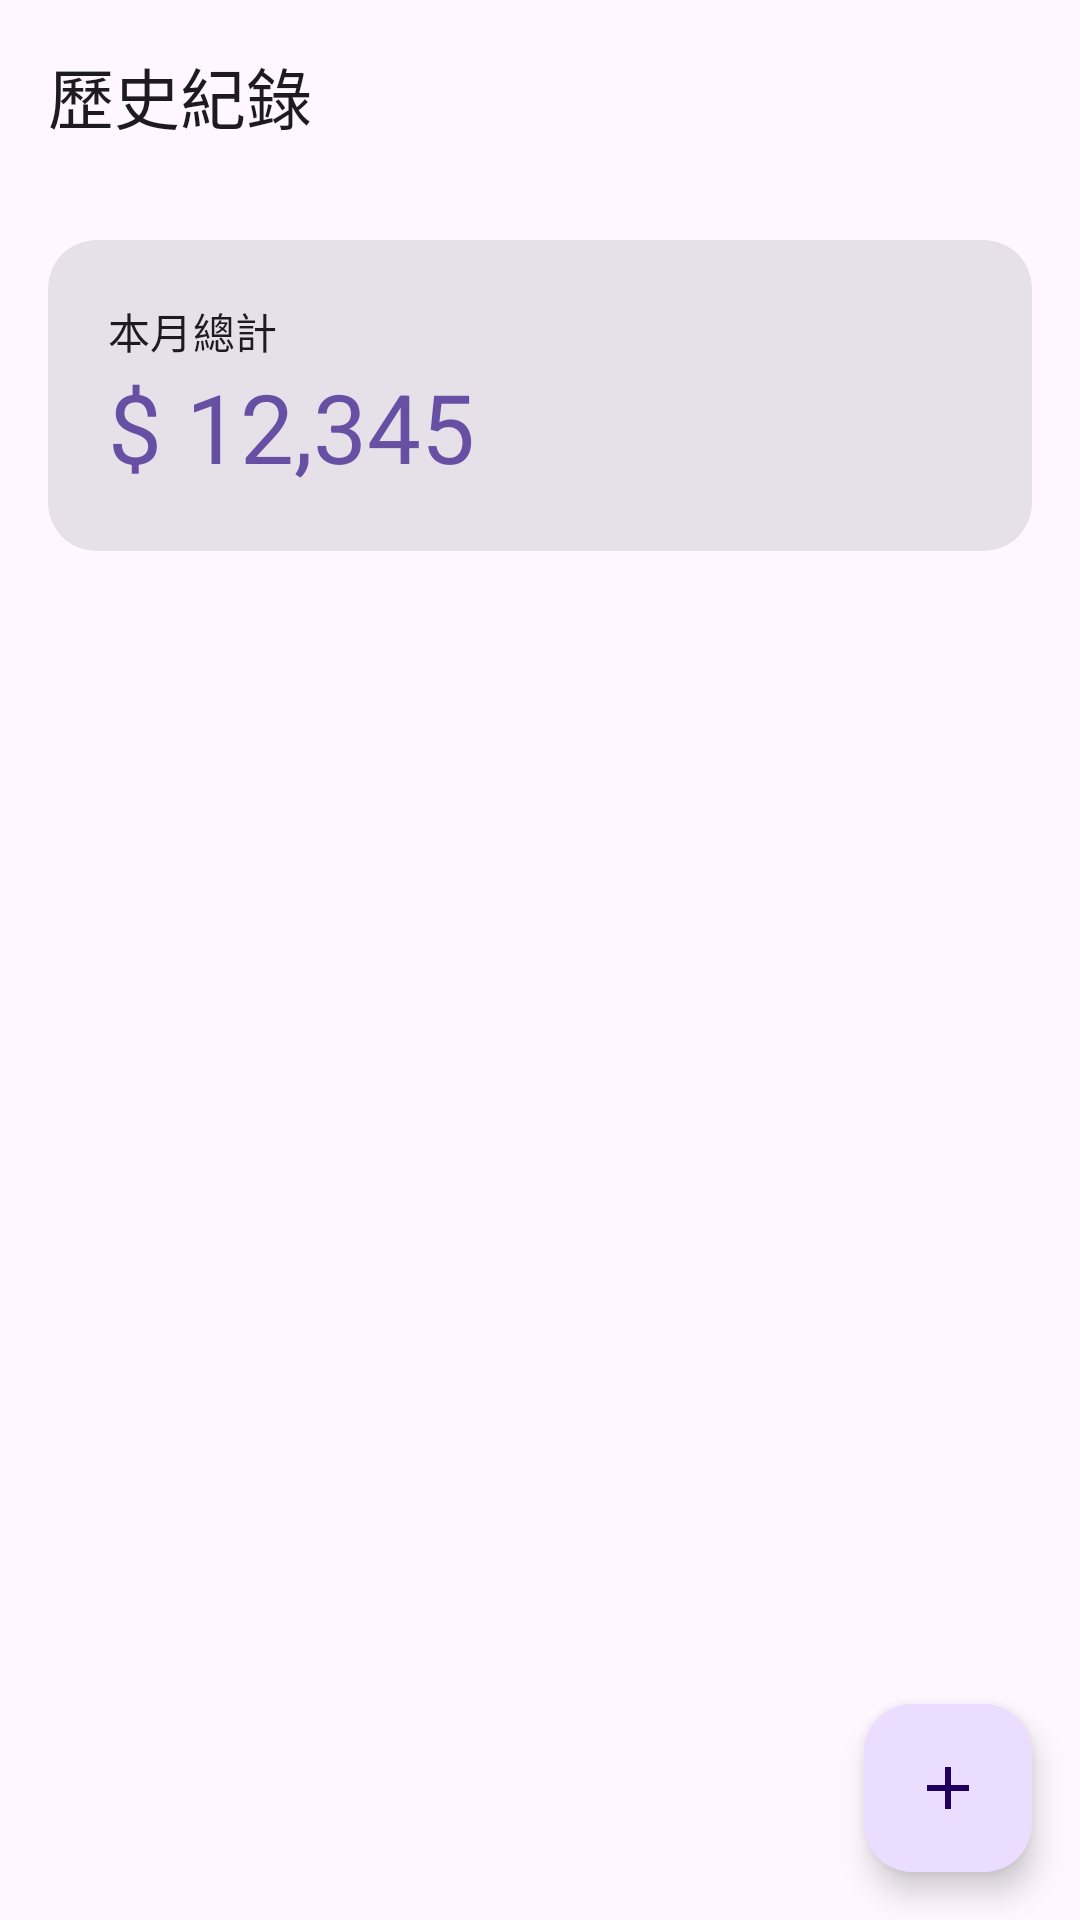

Point at icon controls on the screen. Image size 1080px×1920px, points as [x,y].
新增紀錄: [948,1788]
